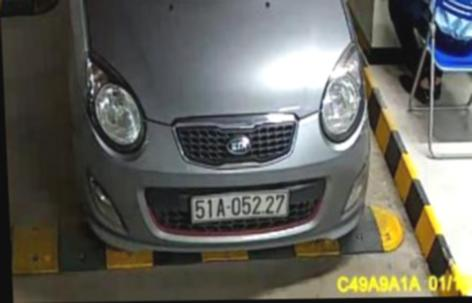License_Plate: (185, 186, 299, 226)
